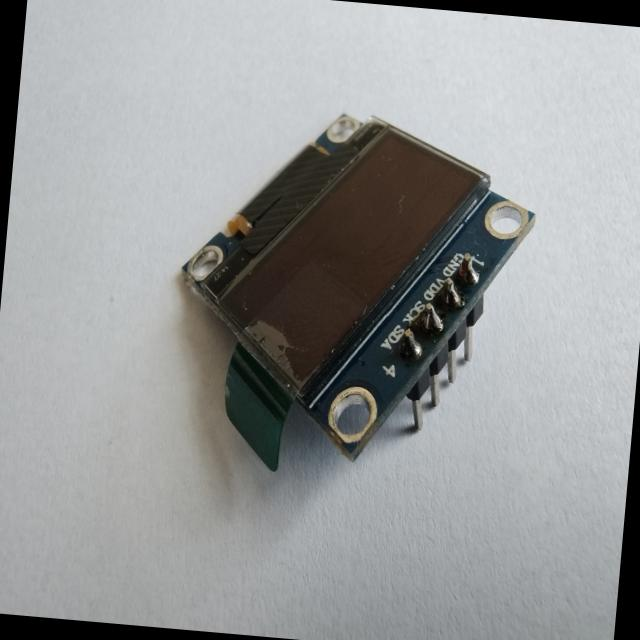oled: (144, 74, 560, 536)
